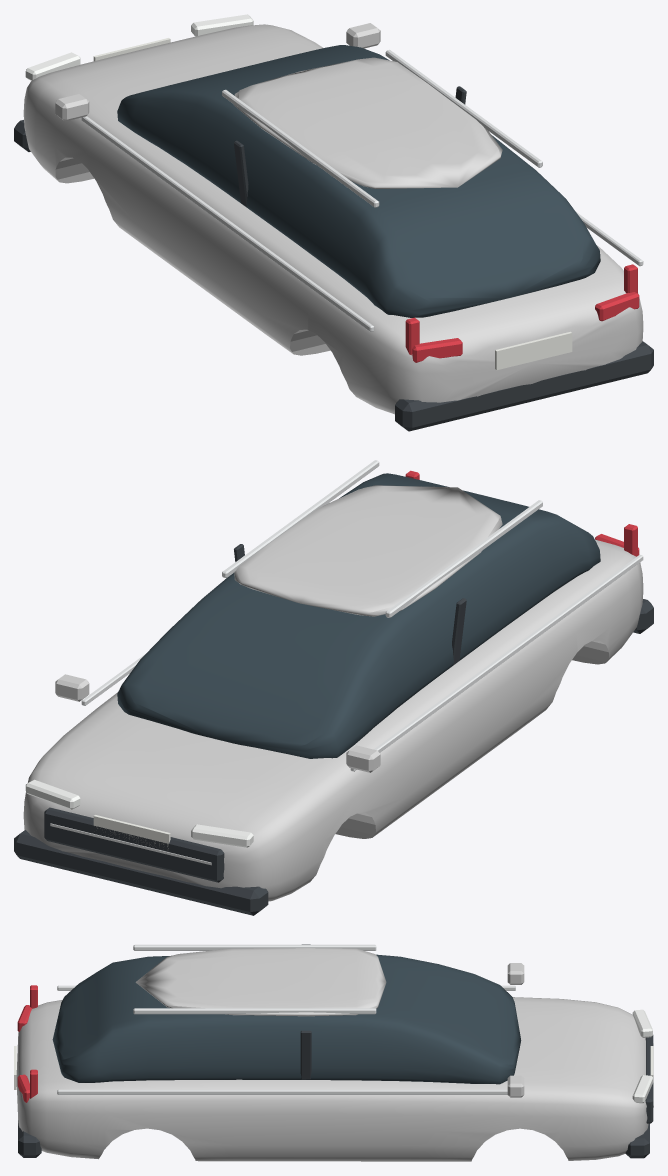
Rendered from estate.glb.
3 views of the same model, one above another, from view 1: azimuth 30°, elevation 25°; view 2: azimuth 150°, elevation 25°; view 3: azimuth 270°, elevation 25° (orthographic). The views are drawn at different scales.
Visible parts, largest first — view 1: paint_body, glass_house, roof, bumper_r, chrome_beltline, plate.001, chrome_rail, chrome_rail.001, tail_lamp, head_lamp.001, tail_lamp.001, head_lamp (+3 smaller); view 2: paint_body, glass_house, roof, black_grille, bumper_f, chrome_beltline, chrome_rail, chrome_rail.001, head_lamp, plate, head_lamp.001, mirror.001 (+1 smaller); view 3: paint_body, glass_house, roof, chrome_beltline.001, chrome_rail.001, chrome_rail, black_bpillar.001, bumper_r, bumper_f, black_grille, head_lamp.001, head_lamp (+2 smaller).
Part boxes in pixels (x1,y1,x2,y2): paint_body: (23,24,643,414); glass_house: (117,45,600,317); roof: (234,57,502,188); bumper_r: (395,341,653,431); chrome_beltline: (81,116,374,331); plate.001: (495,331,572,369); chrome_rail: (222,89,379,207); chrome_rail.001: (385,49,542,167); tail_lamp: (412,338,462,362); head_lamp.001: (191,14,253,36); tail_lamp.001: (595,292,639,321); head_lamp: (25,52,80,80); paint_body: (23,539,643,901); glass_house: (117,473,600,758); roof: (234,485,502,616); black_grille: (44,807,224,882); bumper_f: (14,830,268,915); chrome_beltline: (350,554,643,771); chrome_rail: (385,500,542,617); chrome_rail.001: (222,460,379,577); head_lamp: (191,824,253,847); plate: (93,815,170,848); head_lamp.001: (25,779,80,809); mirror.001: (55,674,89,701); paint_body: (16,997,648,1161); glass_house: (52,954,521,1084); roof: (135,948,386,1016); chrome_beltline.001: (57,1089,507,1094); chrome_rail.001: (133,1008,376,1014); chrome_rail: (133,944,376,950); black_bpillar.001: (300,1030,311,1079); bumper_r: (18,1120,41,1157); bumper_f: (625,1123,649,1158); black_grille: (645,1035,653,1123); head_lamp.001: (632,1075,652,1103); head_lamp: (632,1009,652,1037).
Size of the model in its own units: 2.11 by 1.12 by 4.63.
